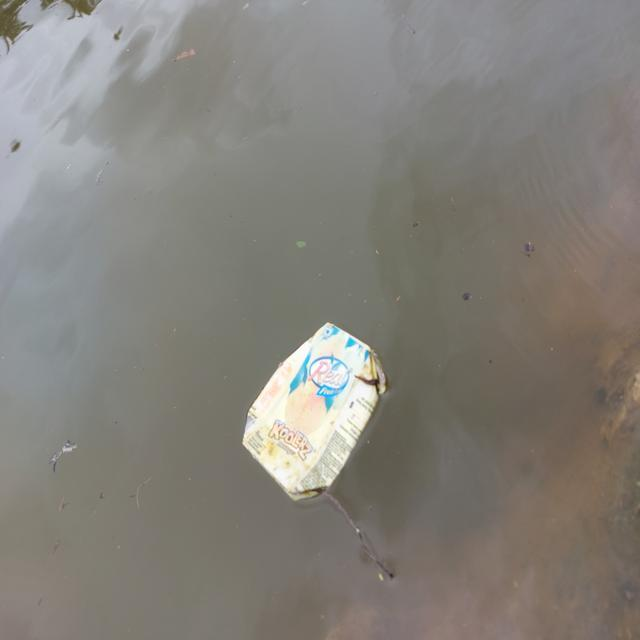paper: (228, 314, 396, 497)
